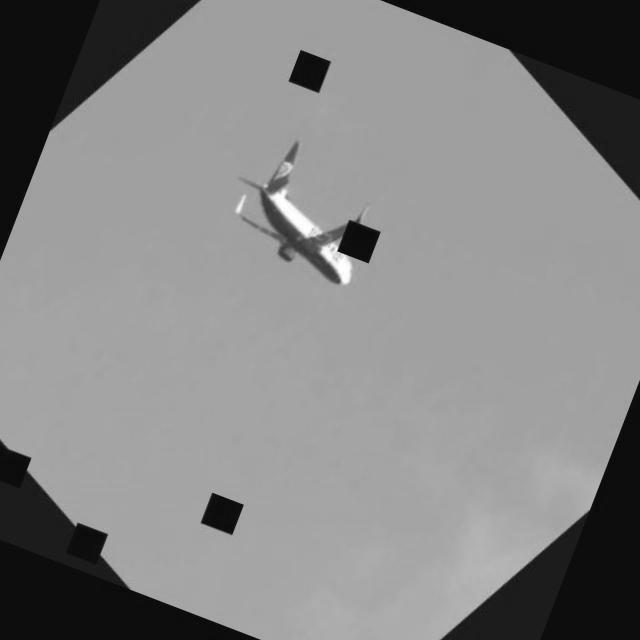aeroplane: (212, 128, 400, 300)
